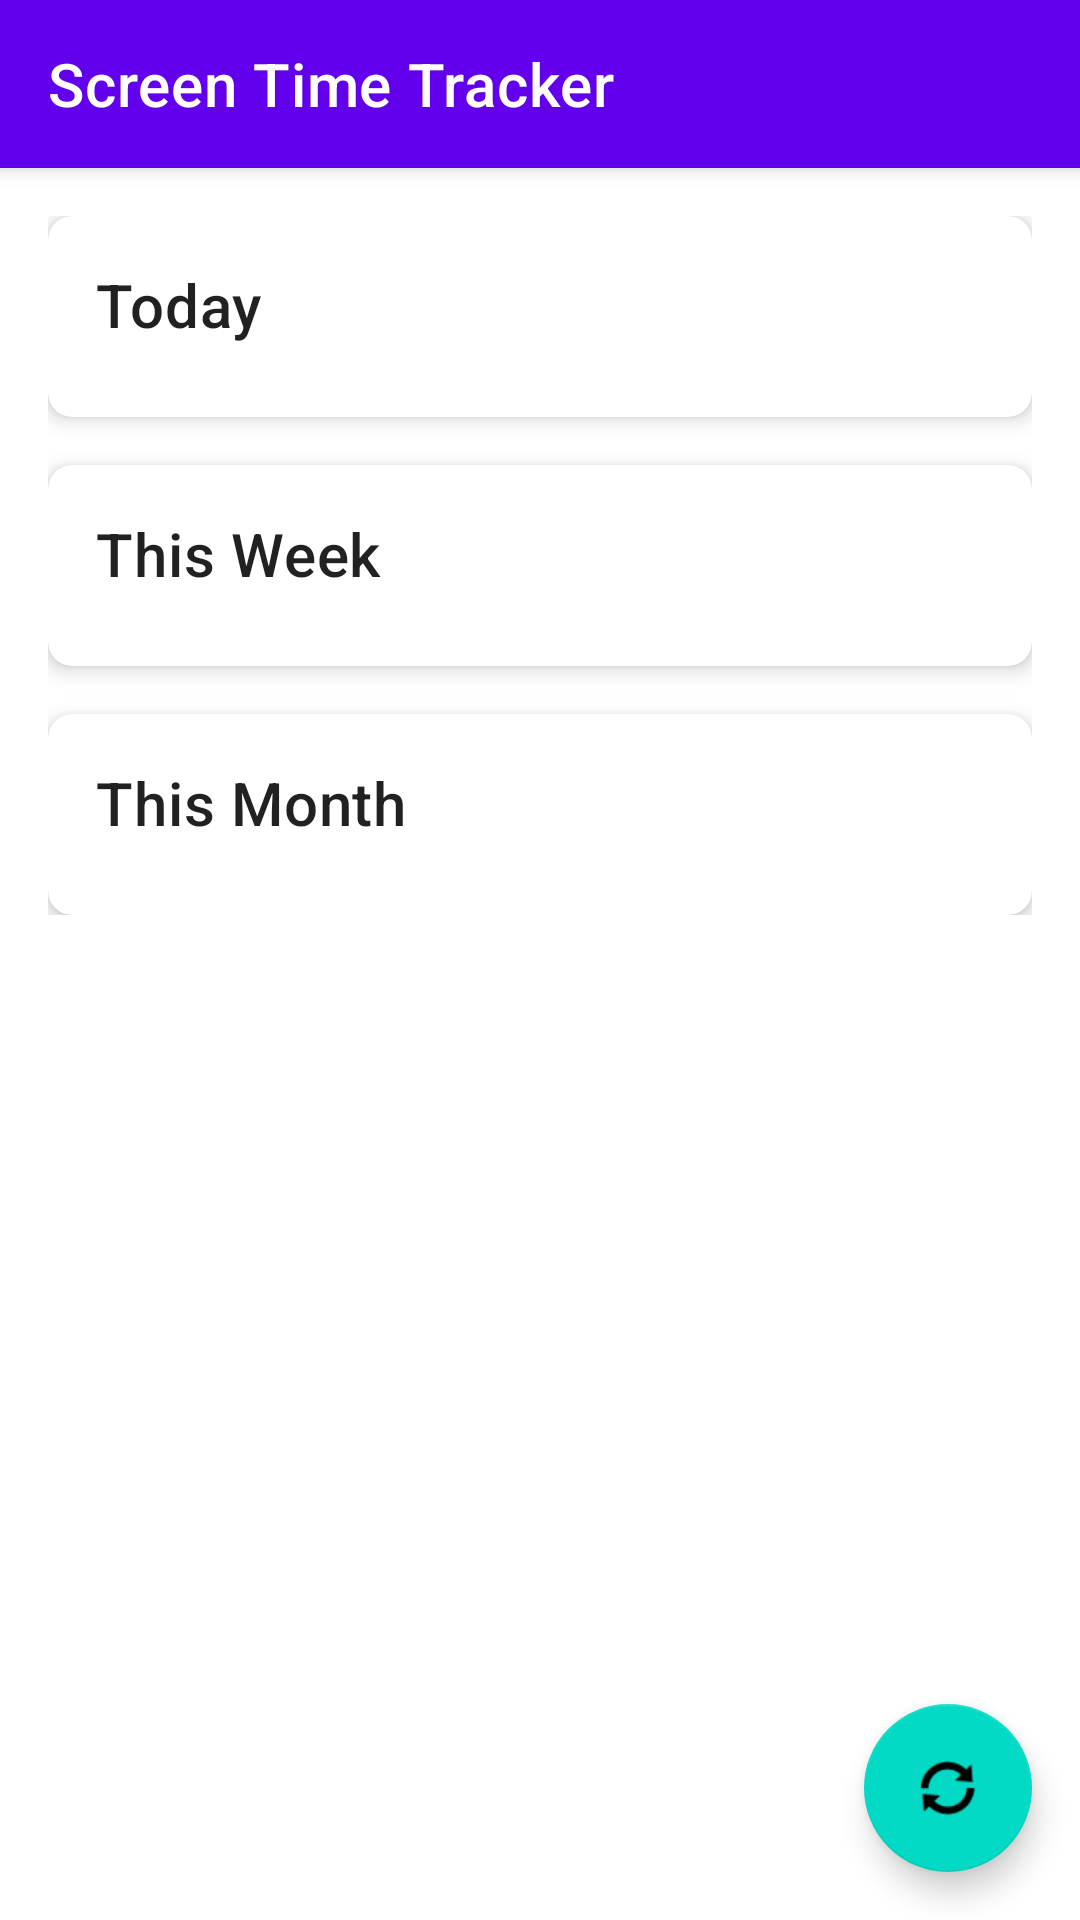

Screen size 1080w x 1920h. Icon name, then its center in pixels as (x,y):
Refresh: (948,1788)
